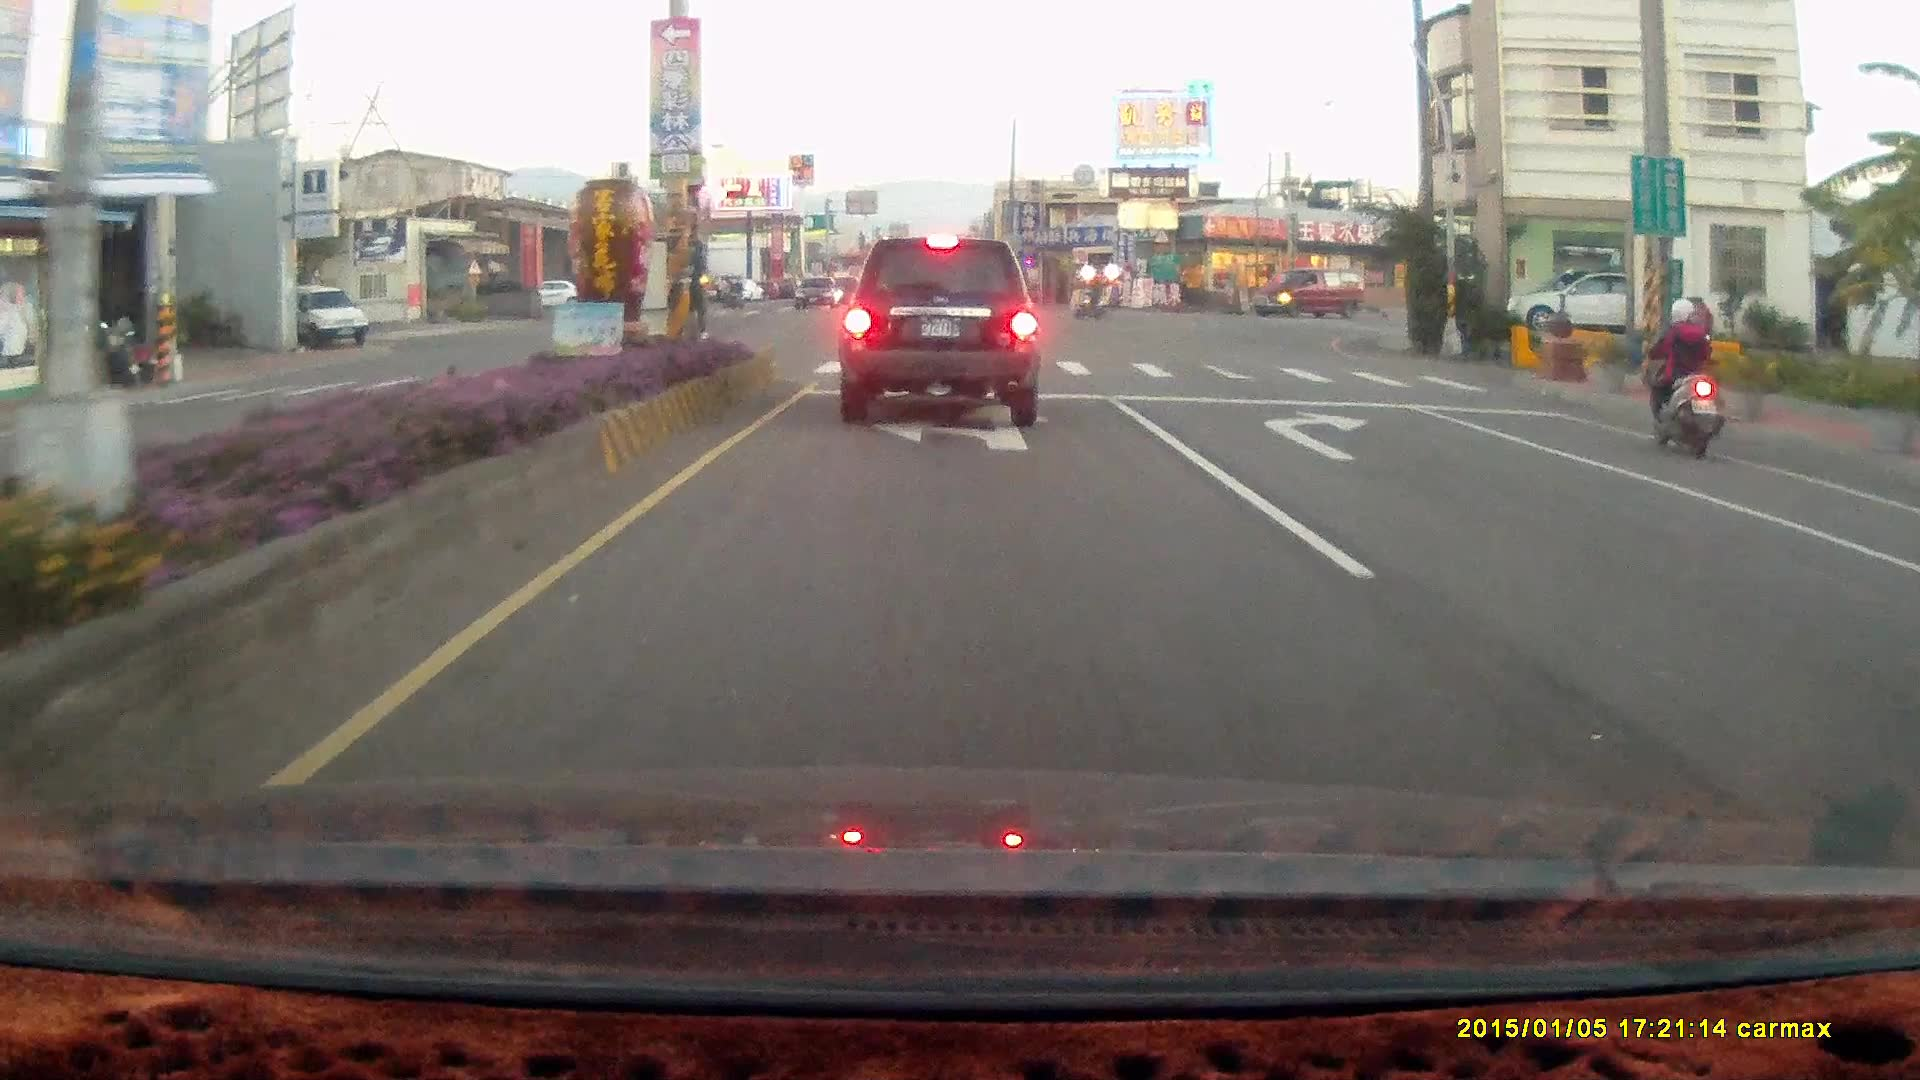rider: (1644, 295, 1722, 460), (1069, 272, 1110, 322)
vehicle: (837, 237, 1041, 427), (1504, 265, 1672, 333), (1896, 493, 1920, 836), (1515, 272, 1641, 336), (279, 283, 372, 349), (1883, 528, 1920, 690), (1251, 267, 1364, 317), (1251, 268, 1364, 318), (911, 274, 1023, 319)
